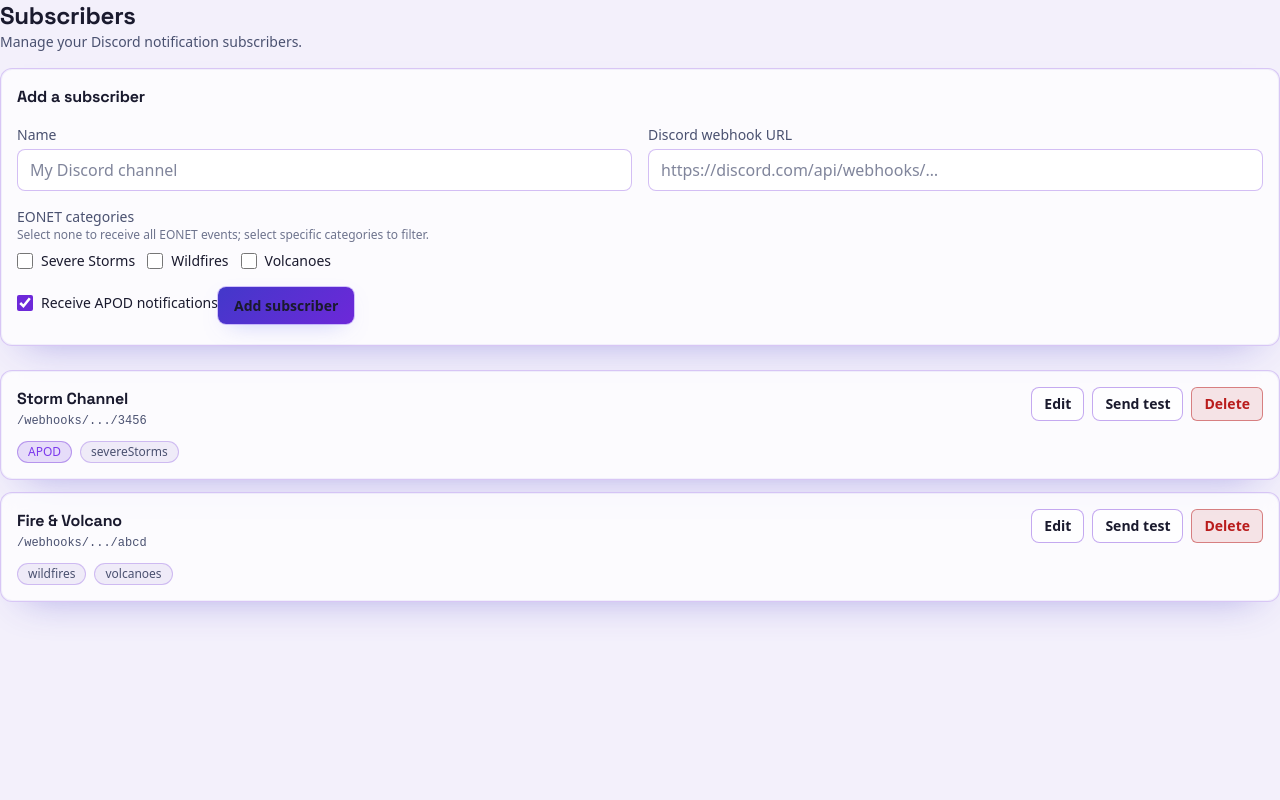
Scenario: Subscribers — VAL-FE-SUB-006 delete confirmation › opens a confirmation modal; cancel does not send DELETE
Click the button with test id "subscriber-delete-btn" at (1227, 404), box [1192, 387, 1263, 421]
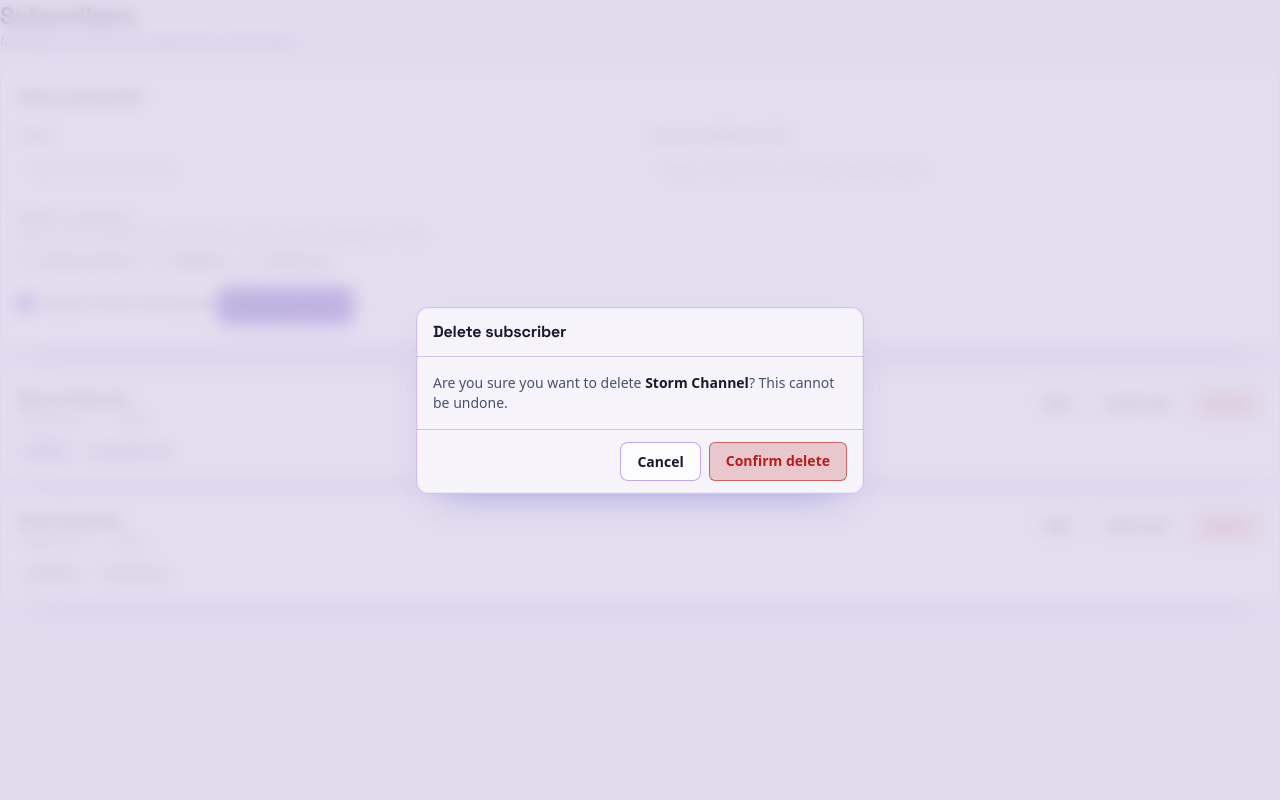
Result: the dialog with test id "delete-modal" is shown at [416, 306, 864, 494]
Click the button with test id "delete-cancel-btn" at (661, 461), box [620, 442, 701, 480]
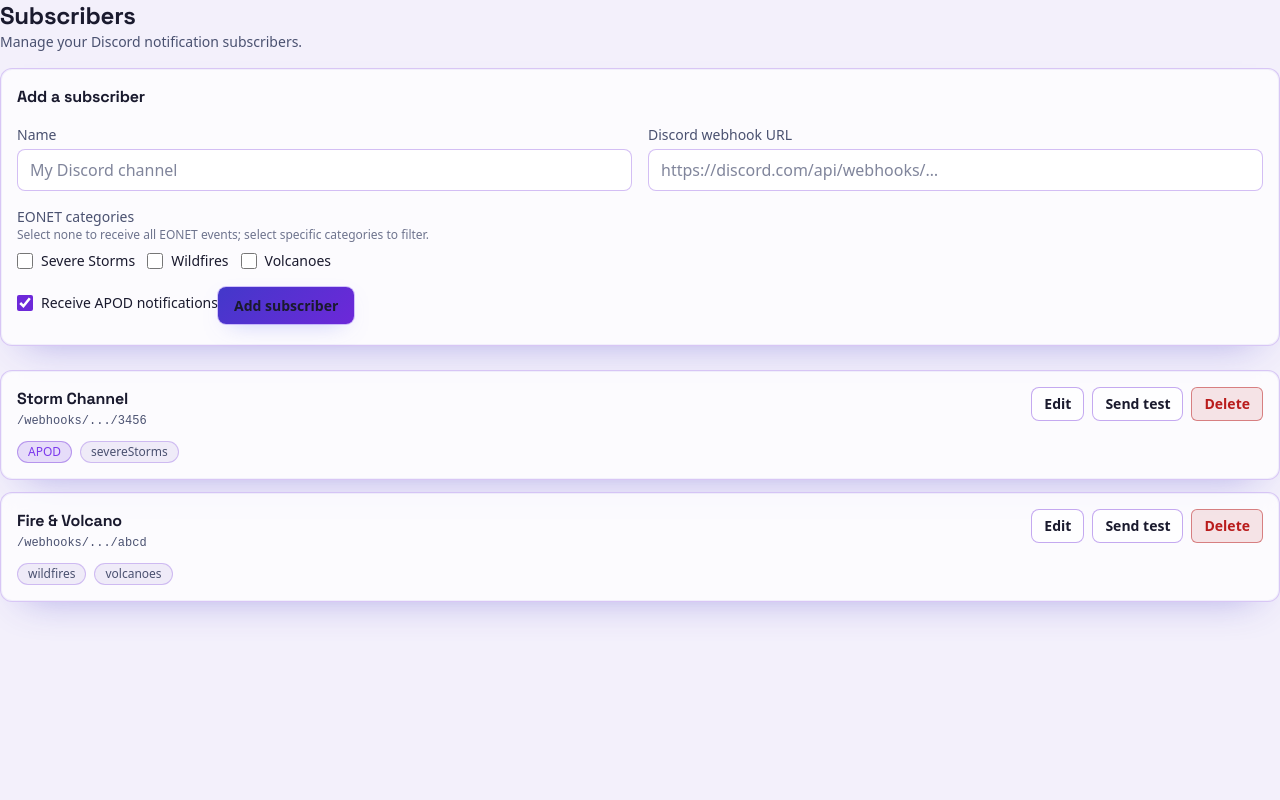
Result: the dialog with test id "delete-modal" is gone
